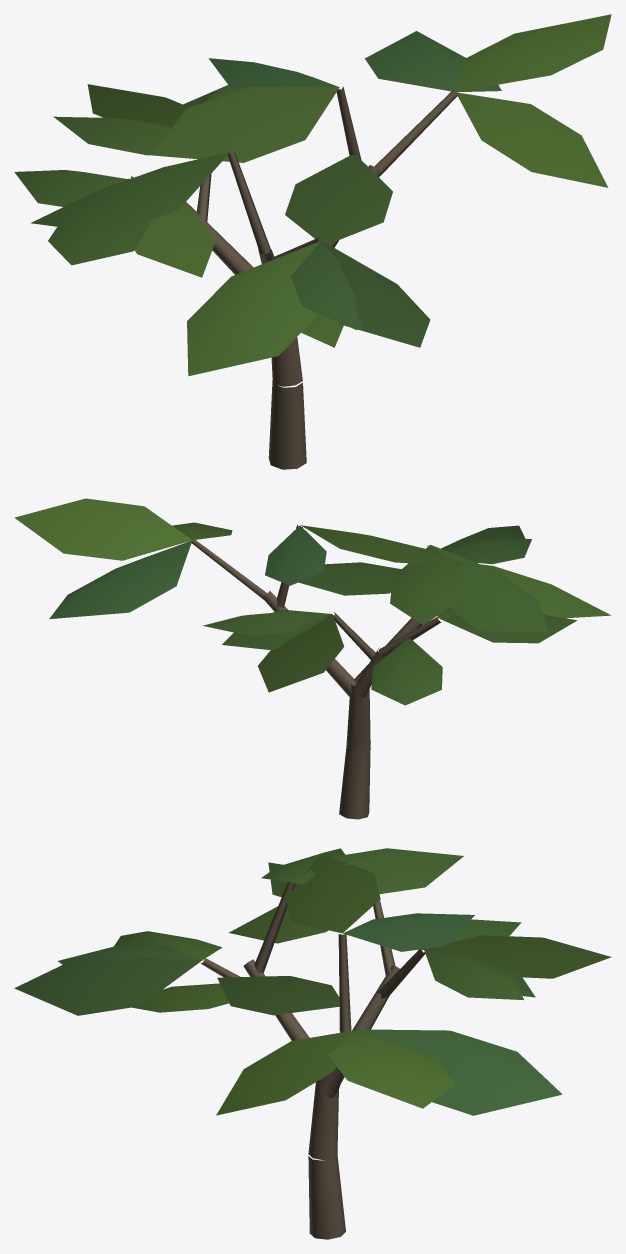
Rendered from tree-spreading.glb.
3 views of the same model, one above another, from view 1: azimuth 30°, elevation 25°; view 2: azimuth 150°, elevation 25°; view 3: azimuth 270°, elevation 25° (orthographic). The views are drawn at different scales.
Parts seen in each view (by area): view 1: tree-spreading; view 2: tree-spreading; view 3: tree-spreading.
Part boxes in pixels (box(x1,y1,x2,y2)): tree-spreading: box(14, 14, 611, 469); tree-spreading: box(14, 498, 611, 819); tree-spreading: box(14, 848, 611, 1239).
Size of the model in its own units: 12.67 by 6.9 by 11.34.
